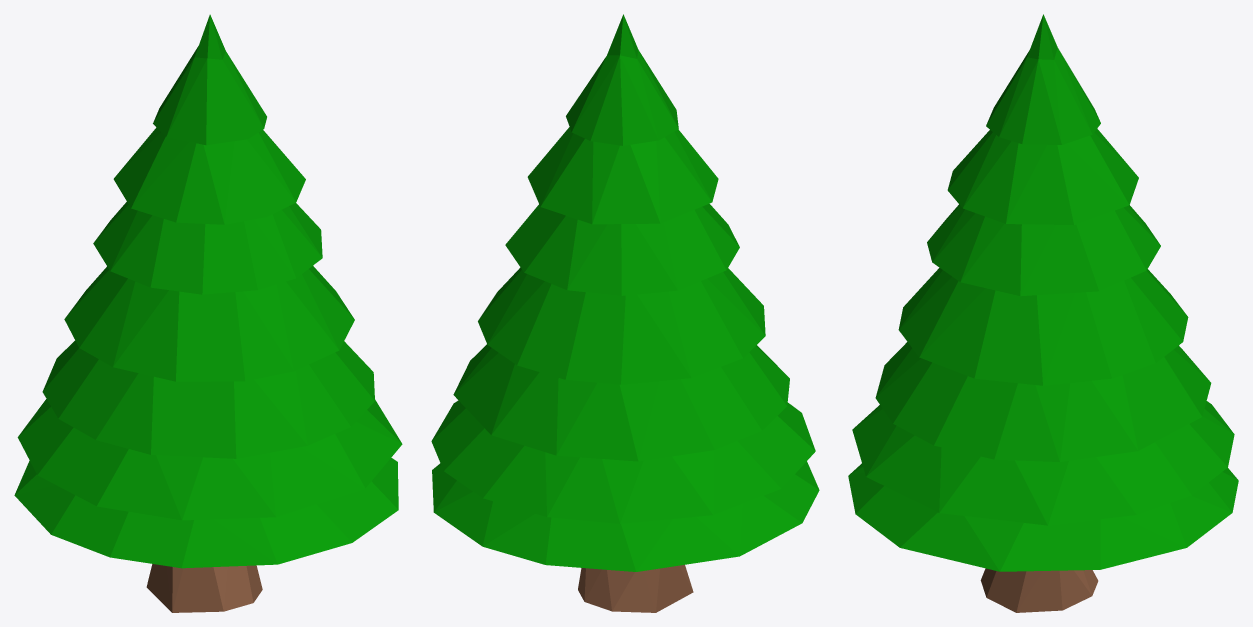
The model's file is PineTree.fbx.
3 renders of one model, left to right at view 1: azimuth 30°, elevation 25°; view 2: azimuth 150°, elevation 25°; view 3: azimuth 270°, elevation 25°, orthographic.
Visible parts, largest first — view 1: Cylinder.001, Cylinder; view 2: Cylinder.001, Cylinder; view 3: Cylinder.001, Cylinder.
Boxes of the visible parts, bbox=[...] form: Cylinder.001: bbox=[14, 14, 402, 568]; Cylinder: bbox=[146, 564, 262, 612]; Cylinder.001: bbox=[431, 14, 819, 571]; Cylinder: bbox=[578, 565, 693, 612]; Cylinder.001: bbox=[848, 14, 1238, 571]; Cylinder: bbox=[980, 568, 1098, 612].
Size of the model in its own units: 520 by 853 by 521.
